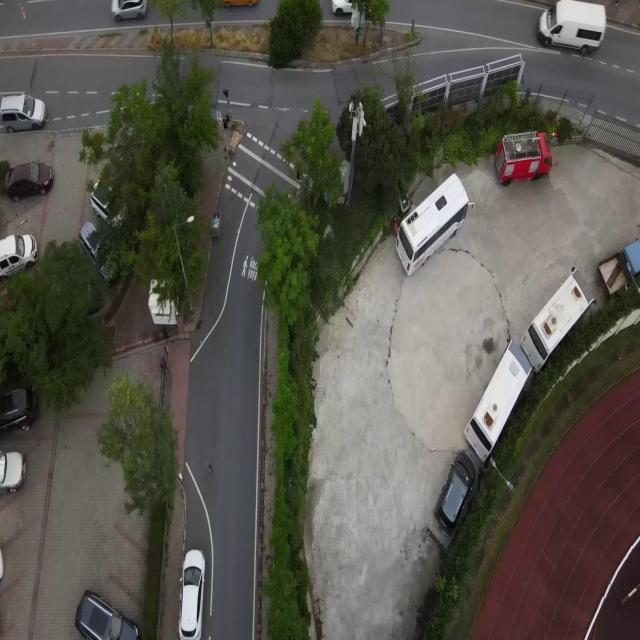p3rson: (296, 169, 302, 183)
